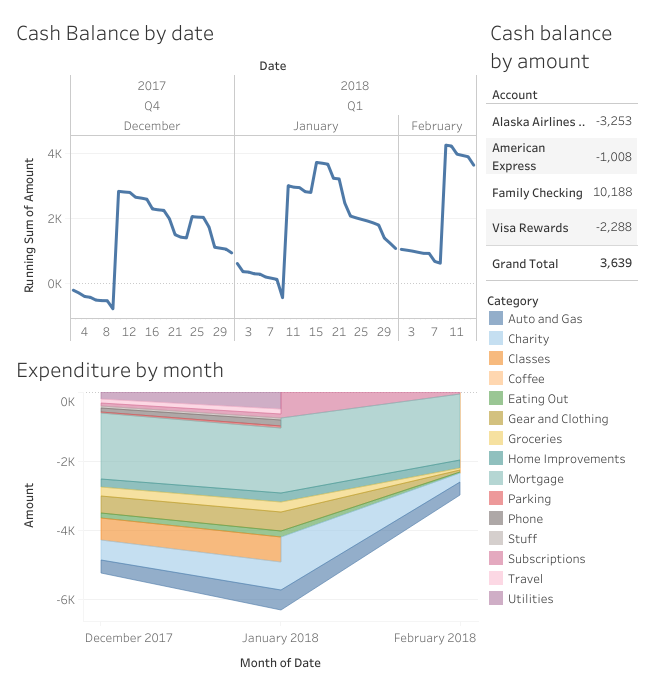

The dashboard page shown, as its layout file describes it:
{"tool":"tableau","page":{"name":"Personal Finance Dashboard","canvas":[650,860],"ordinal":0},"visuals":[{"type":"worksheet","title":"Cash Balance by date","mark":"Automatic","rows":["Amount"],"cols":["Date","Date","Date","Date"],"box":[8,11.8,474,418.2]},{"type":"worksheet","title":"Cash balance by amount","mark":"Automatic","rows":["Account"],"box":[482,11.8,160,344]},{"type":"legend","title":"Expenditure by month","param":"[federated.1pddmog1co7mfz1g0pj0c1bohmqq].[none:Category:nk]","box":[482,355.8,160,479.3]},{"type":"worksheet","title":"Expenditure by month","mark":"Area","rows":["Amount"],"cols":["Date"],"box":[8,430,474,418.2]}]}

Visuals, with their boxes on the page's 650x860 design canvas (x1, y1, x2, y2). These are canvas units, not pixel positions in the 649x689 screenshot, which may show the page scaled, cropped or inside an application window:
"Cash Balance by date" worksheet: detection(8, 12, 482, 430)
"Cash balance by amount" worksheet: detection(482, 12, 642, 356)
"Expenditure by month" legend: detection(482, 356, 642, 835)
"Expenditure by month" worksheet (Area marks): detection(8, 430, 482, 848)
